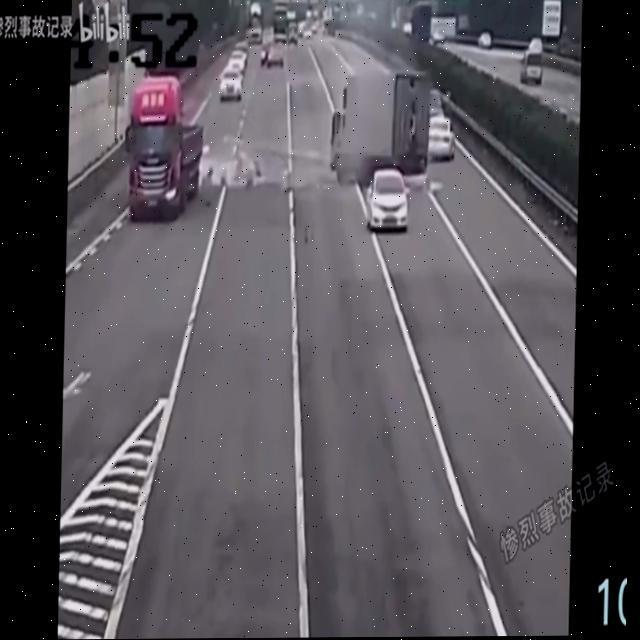multiple_accident: (320, 62, 462, 283)
normal: (92, 37, 237, 233)
